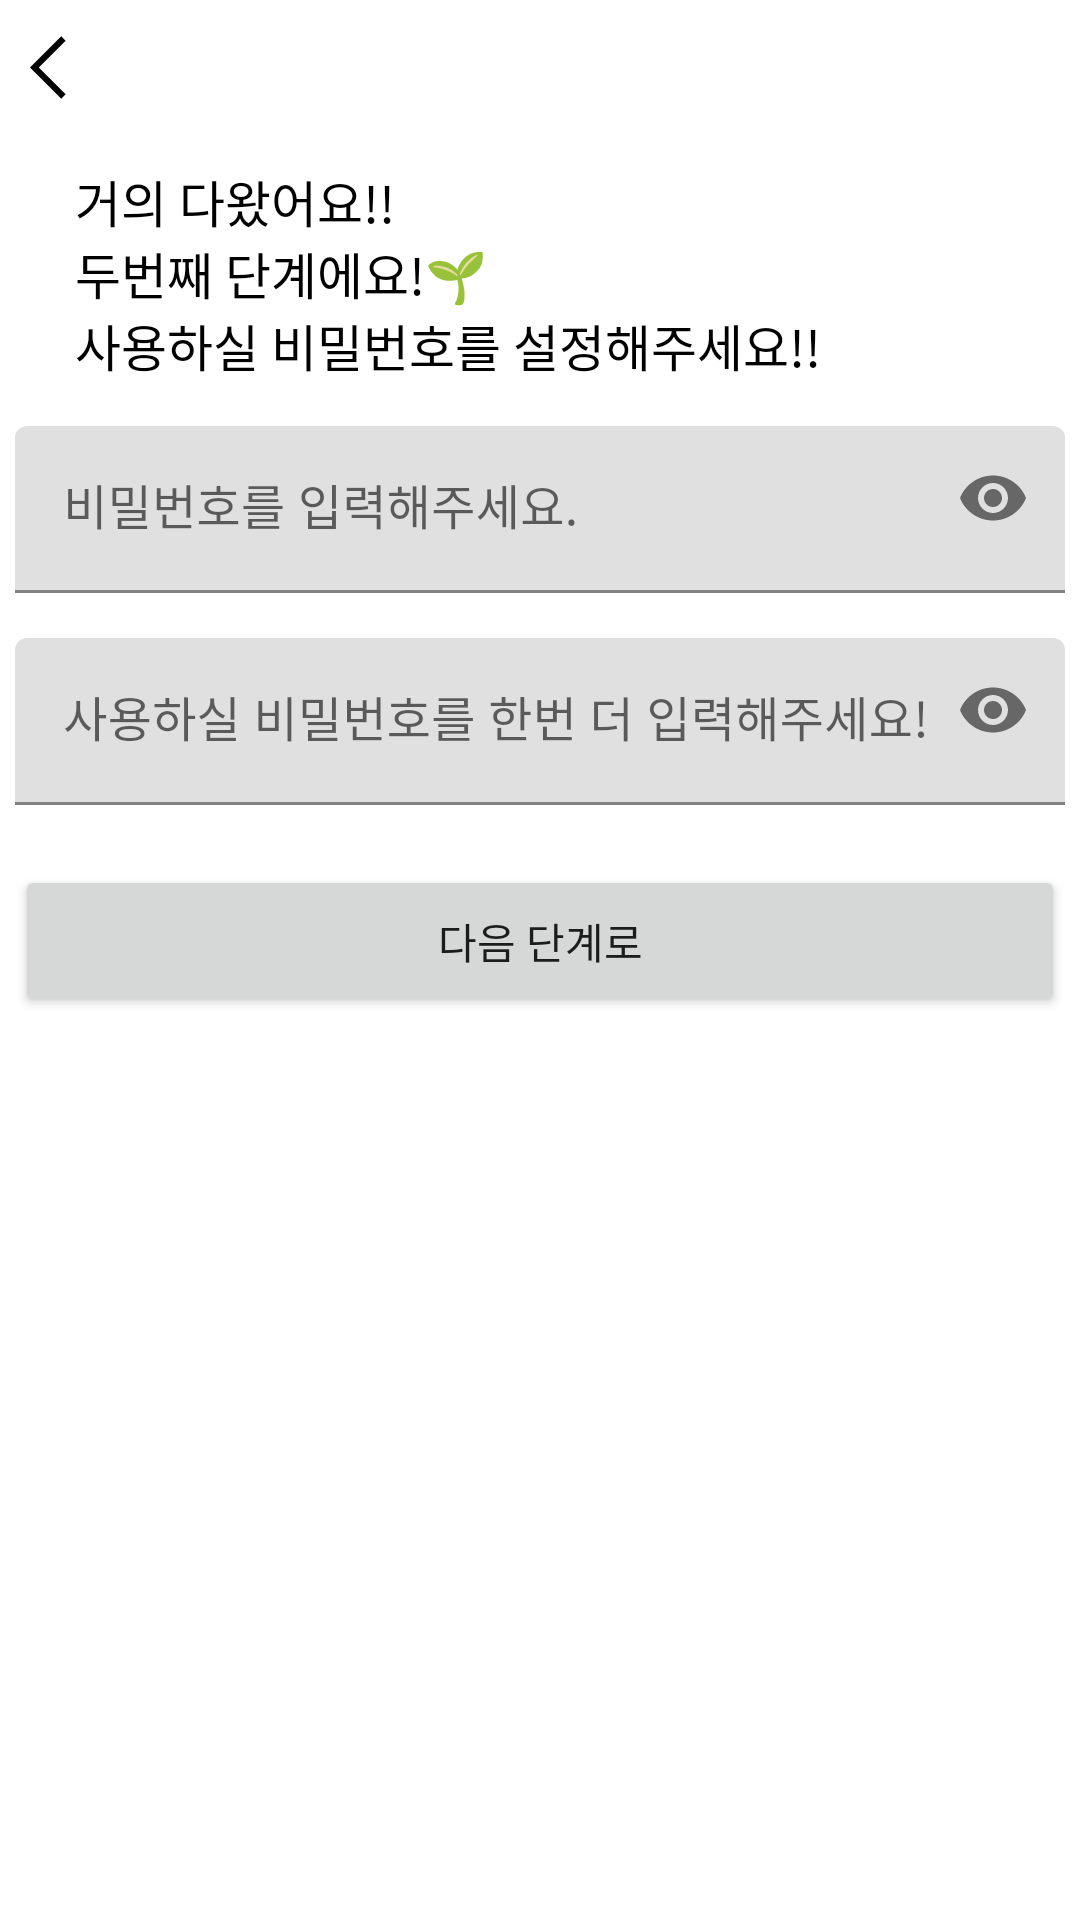

Where icons sit on this 1080px x 1920px app screen, as [x1,y1,x2,y2]:
arrow back: [30,36,66,99]
